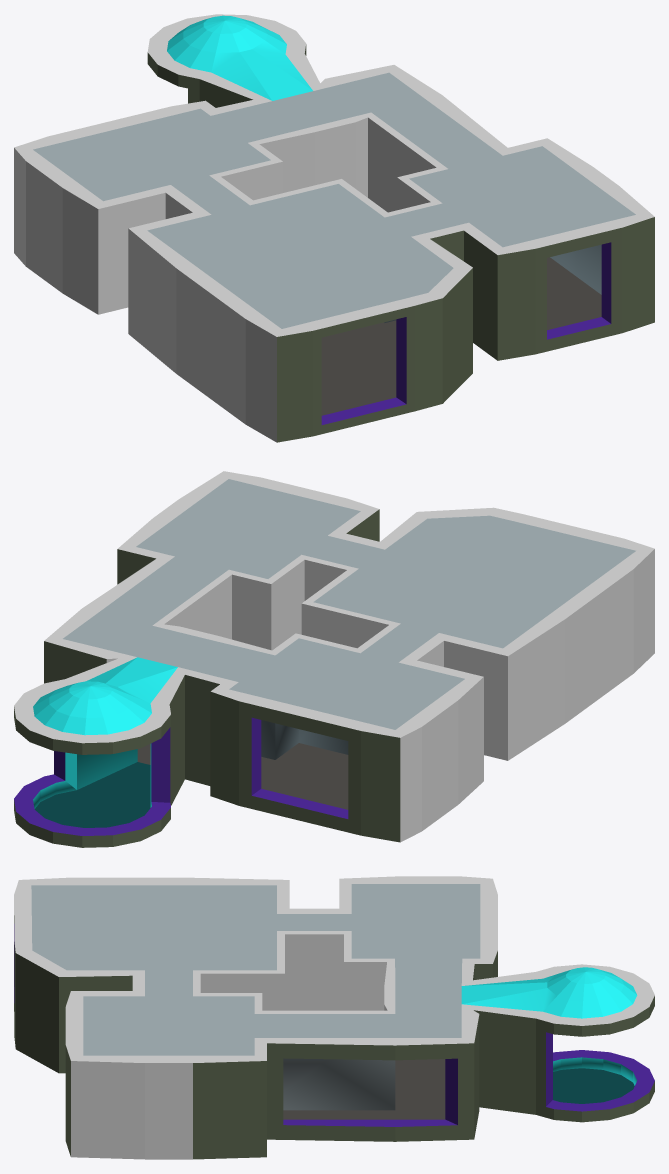
File: escenario 1.fbx
The picture shows the model from 3 angles, top to bottom: view 1: azimuth 30°, elevation 25°; view 2: azimuth 150°, elevation 25°; view 3: azimuth 270°, elevation 25°; orthographic projection. The views are drawn at different scales.
Visible parts, largest first — view 1: walls, ceiling, floor; view 2: walls, ceiling, floor; view 3: walls, ceiling, floor.
Part boxes in pixels (x1,y1,x2,y2): walls: (14,14,654,442); ceiling: (33,15,635,328); floor: (321,257,601,415); walls: (14,471,654,847); ceiling: (33,479,635,735); floor: (34,743,348,827); walls: (14,876,654,1159); ceiling: (31,884,637,1055); floor: (283,1059,634,1119).
Size of the model in its own units: 16622 by 4968 by 24122.
